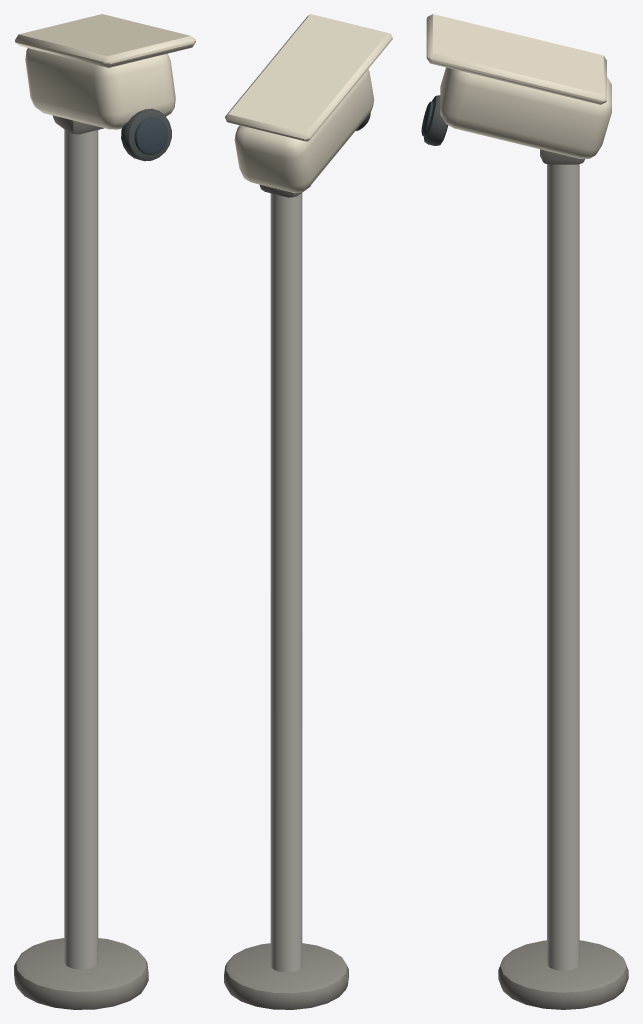
Rendered from cctv_camera.glb.
3 views of the same model, side by side, from view 1: azimuth 30°, elevation 25°; view 2: azimuth 150°, elevation 25°; view 3: azimuth 270°, elevation 25° (orthographic). The views are drawn at different scales.
Visible parts, largest first — view 1: steel, cream, steel_dark, rubber, screen; view 2: steel, cream, steel_dark; view 3: steel, cream, steel_dark, rubber.
Boxes of the visible parts, left/top/right/bottom form: steel: left=64, top=129, right=98, bottom=969; cream: left=15, top=14, right=195, bottom=129; steel_dark: left=14, top=115, right=148, bottom=1009; rubber: left=121, top=108, right=171, bottom=161; screen: left=134, top=117, right=168, bottom=155; steel: left=270, top=193, right=302, bottom=972; cream: left=225, top=14, right=392, bottom=192; steel_dark: left=224, top=184, right=348, bottom=1009; steel: left=547, top=164, right=579, bottom=970; cream: left=426, top=14, right=611, bottom=158; steel_dark: left=498, top=149, right=628, bottom=1009; rubber: left=423, top=95, right=448, bottom=145.
Bounding box in the file's own units: 0.28 × 2.26 × 0.445.
